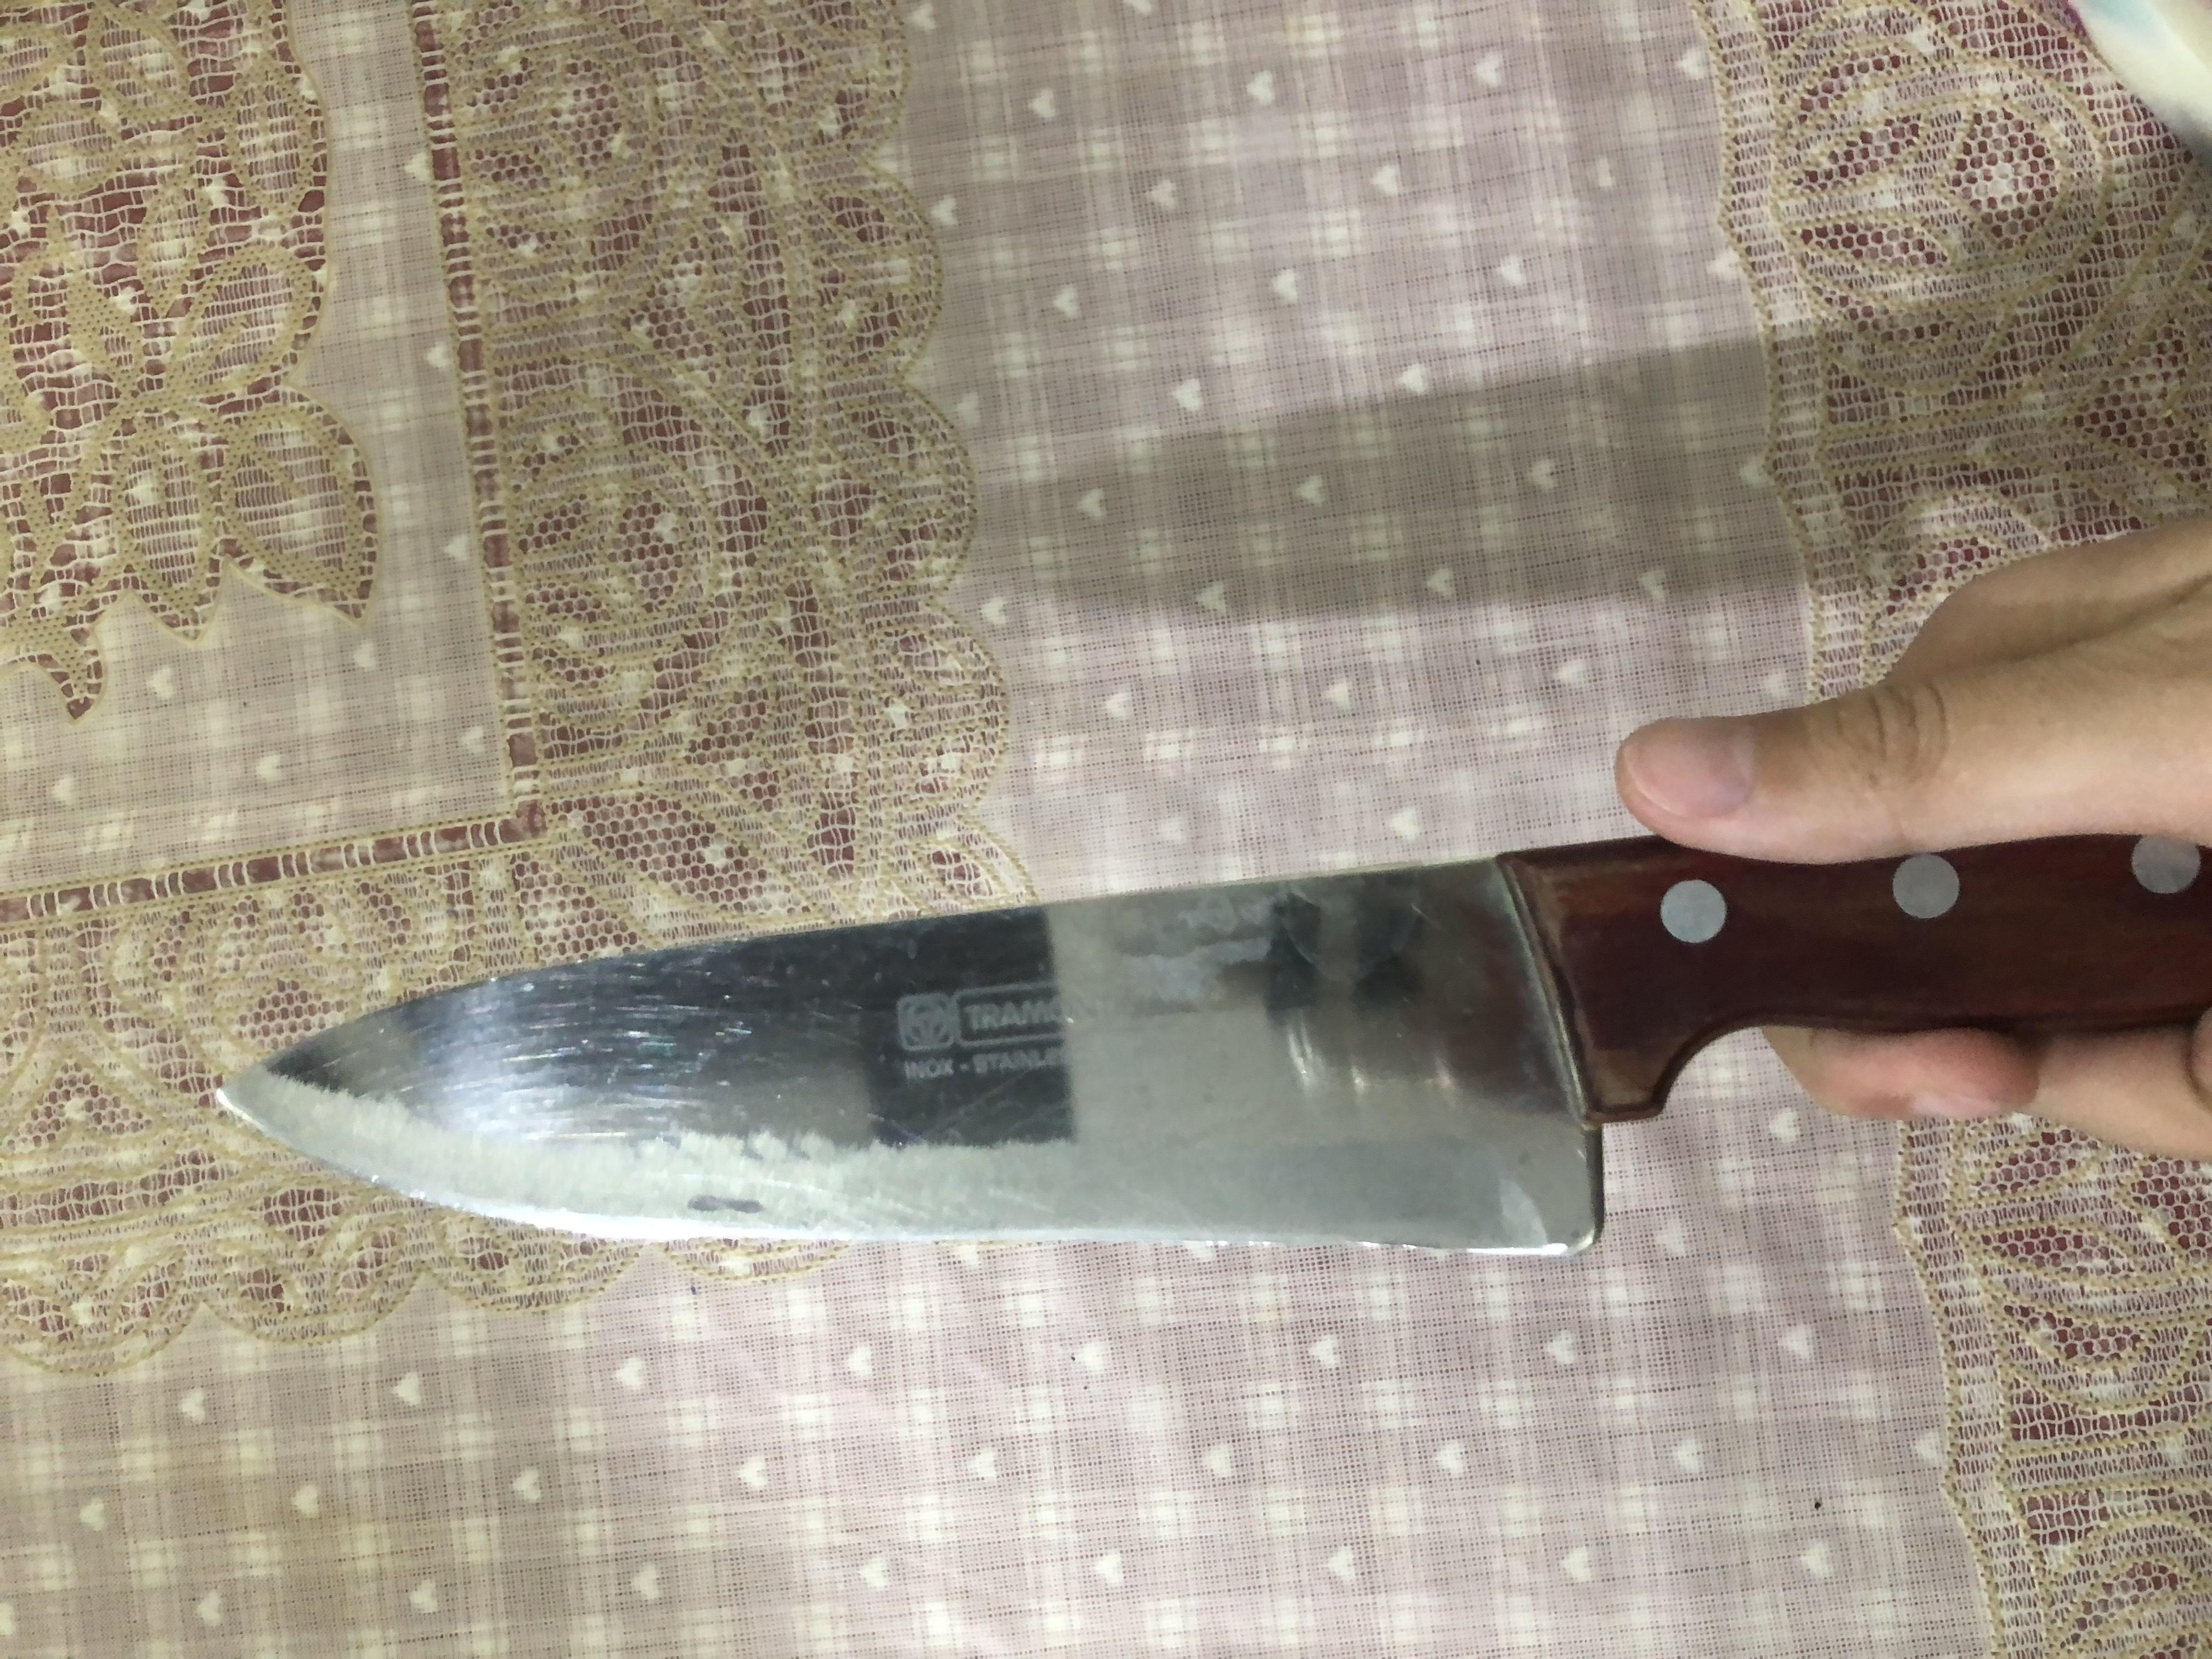weapon: (536, 157, 1120, 1659)
